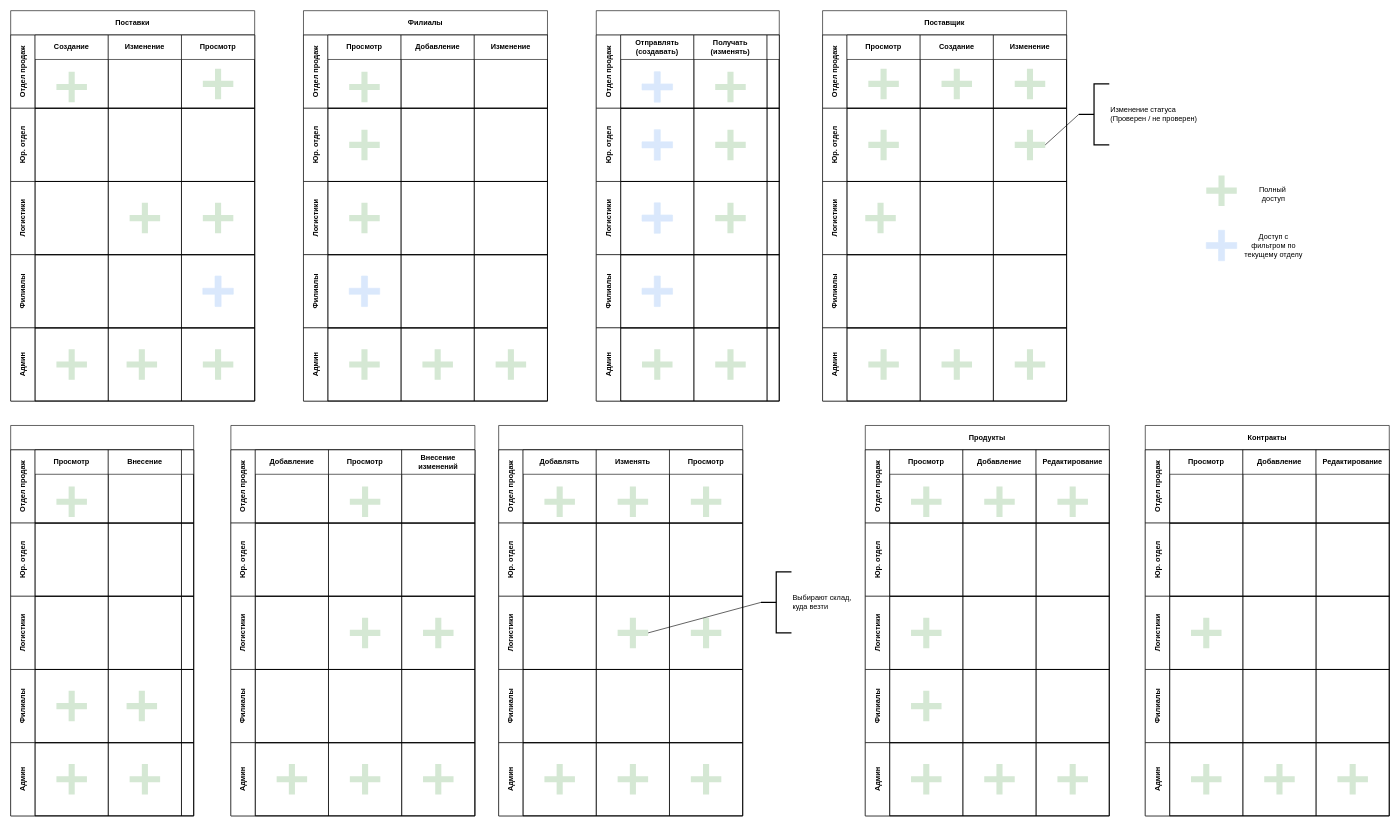
The diagram is 1400 pixels wide and 827 high, and some of its shapes have lost their labels. The box of each missing label's shape, as (x1, y1, x2, y2) in pixels:
Закупки: (498, 425, 743, 816)
Заявки: (596, 10, 779, 401)
Продажи: (10, 425, 194, 816)
Склады: (230, 425, 475, 816)
